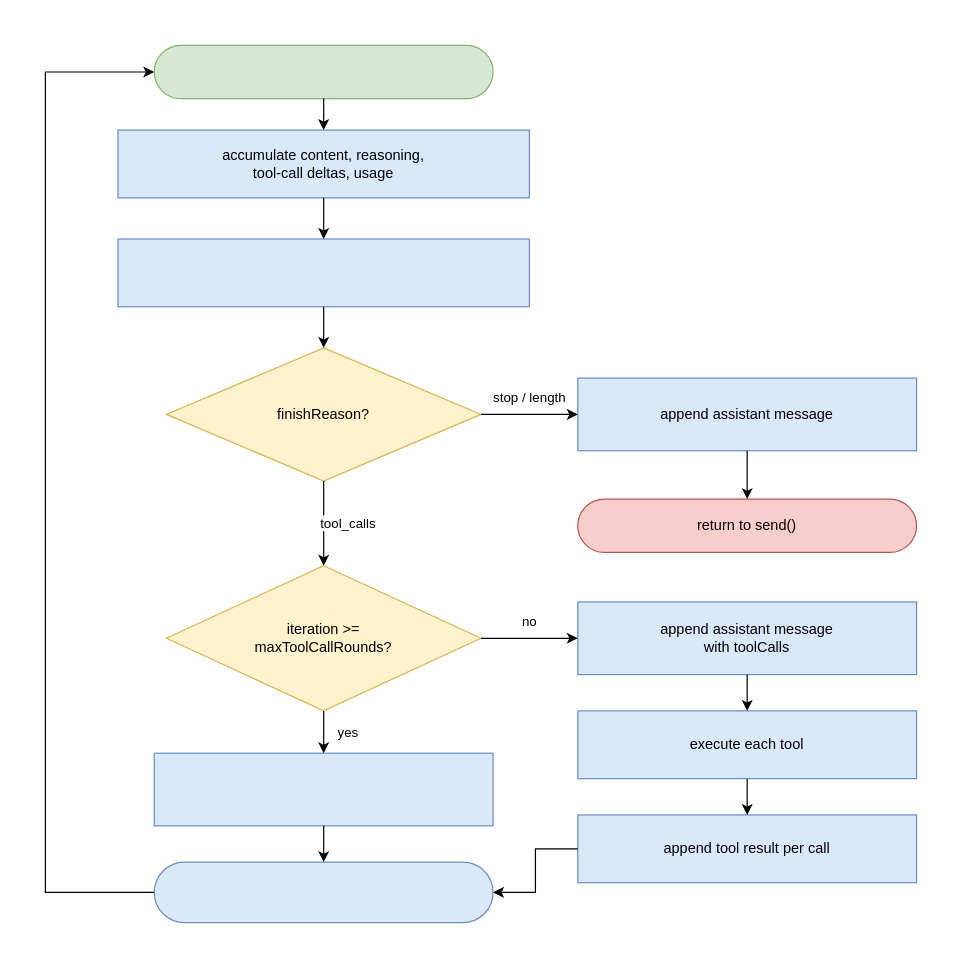
Some shapes in this 961 by 967 pixel diagram are drawn without their labels. The centre of each missing label's shape, as x and y in pixels:
"append assistant message + user: 'summarize progress'" goes at pixel 323 789.
"Finish event (content, toolCalls, reason)" goes at pixel 323 272.
"iteration++" goes at pixel 323 892.
"sendLoop(iteration)" goes at pixel 323 71.
